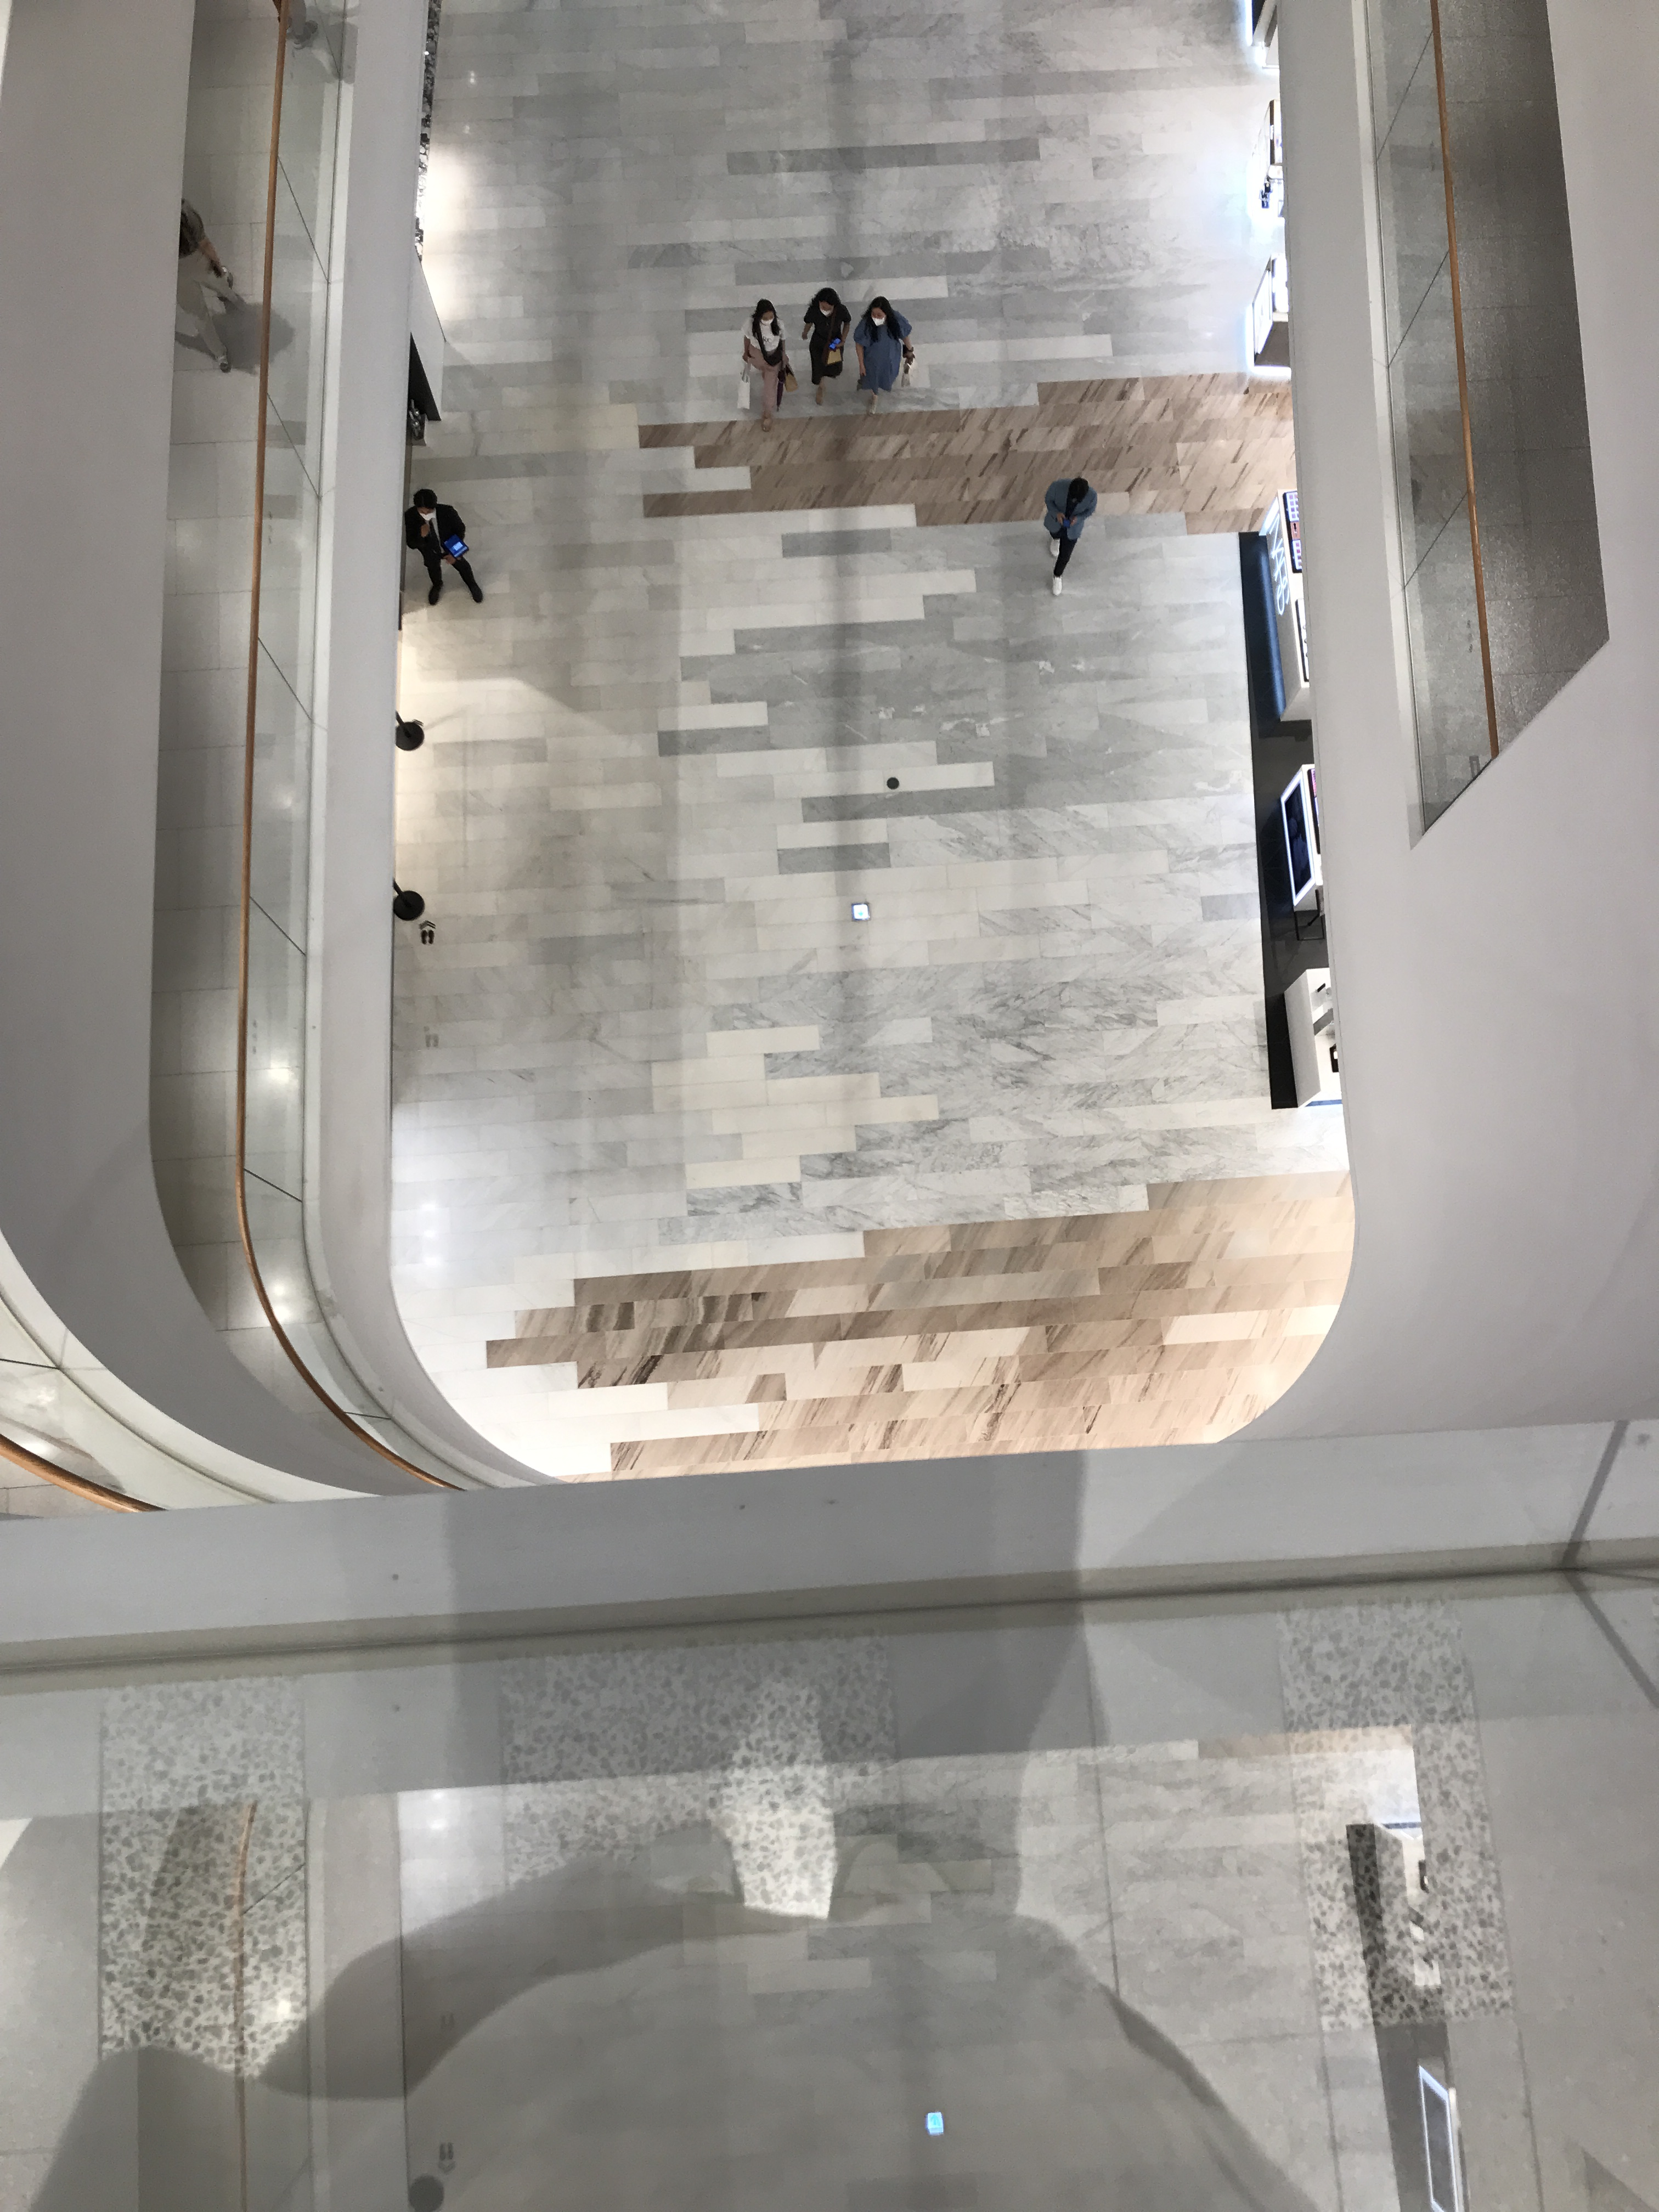person: (173, 199, 247, 377), (403, 488, 486, 605), (851, 296, 917, 419), (741, 297, 797, 433), (1040, 476, 1096, 596), (800, 288, 853, 407)
